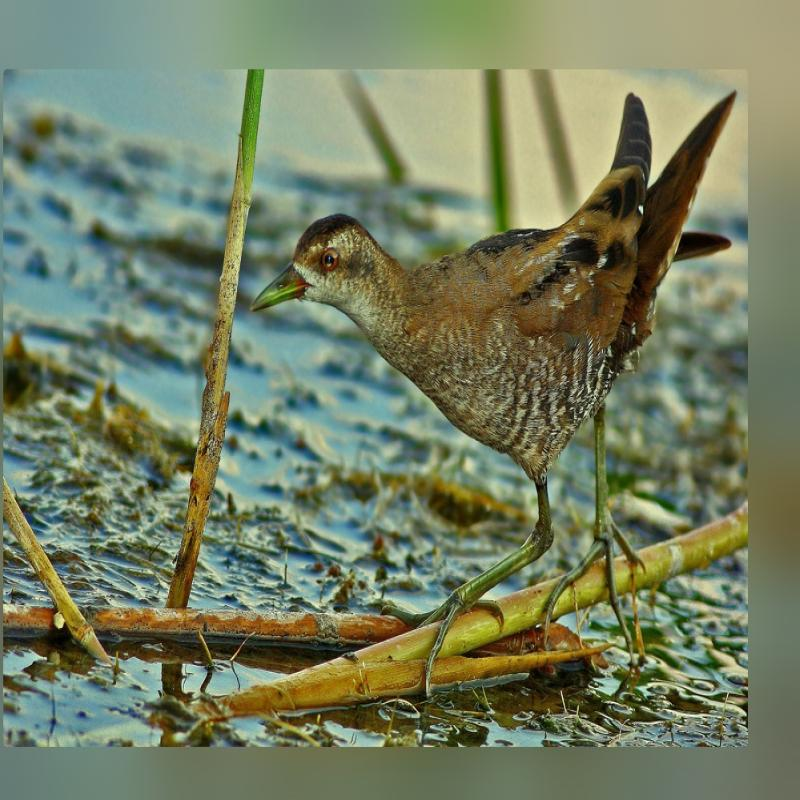little crake: (241, 73, 741, 531)
